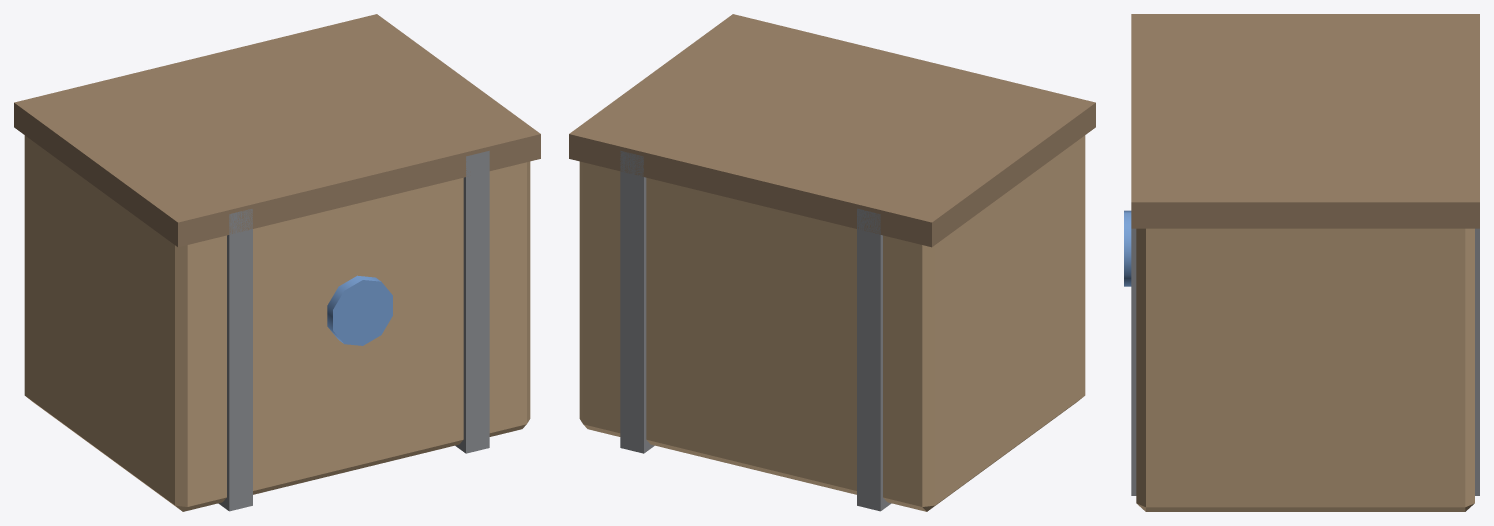
The model's file is hd_supply_crate.glb.
3 views of the same model, side by side, from view 1: azimuth 30°, elevation 25°; view 2: azimuth 150°, elevation 25°; view 3: azimuth 270°, elevation 25° (orthographic). The views are drawn at different scales.
Visible parts, largest first — view 1: hd_supply_crate; view 2: hd_supply_crate; view 3: hd_supply_crate.
Part boxes in pixels (bbox=[...]): hd_supply_crate: bbox=[14, 14, 540, 511]; hd_supply_crate: bbox=[569, 14, 1095, 511]; hd_supply_crate: bbox=[1124, 14, 1479, 511].
Bounding box in the file's own units: 0.92 × 0.73 × 0.735.
